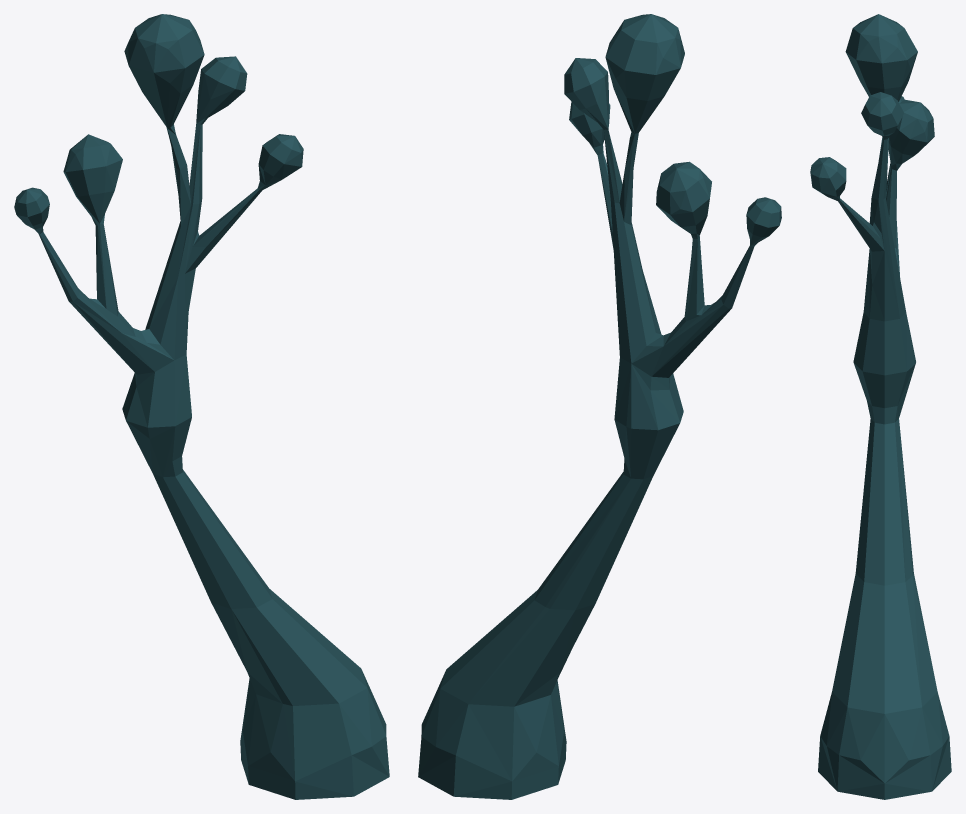
The model's file is Tree01.FBX.
3 views of the same model, side by side, from view 1: azimuth 30°, elevation 25°; view 2: azimuth 150°, elevation 25°; view 3: azimuth 270°, elevation 25° (orthographic). The views are drawn at different scales.
Parts seen in each view (by area): view 1: Cylinder001, Object001; view 2: Cylinder001, Object001; view 3: Cylinder001, Object001.
Part boxes in pixels (x1,y1,x2,y2): Cylinder001: [38, 124, 389, 799]; Object001: [14, 14, 303, 234]; Cylinder001: [418, 129, 754, 799]; Object001: [564, 14, 781, 247]; Cylinder001: [818, 137, 951, 799]; Object001: [810, 14, 934, 200].
Bounding box in the file's own units: 41.37 × 88.42 × 16.14.
